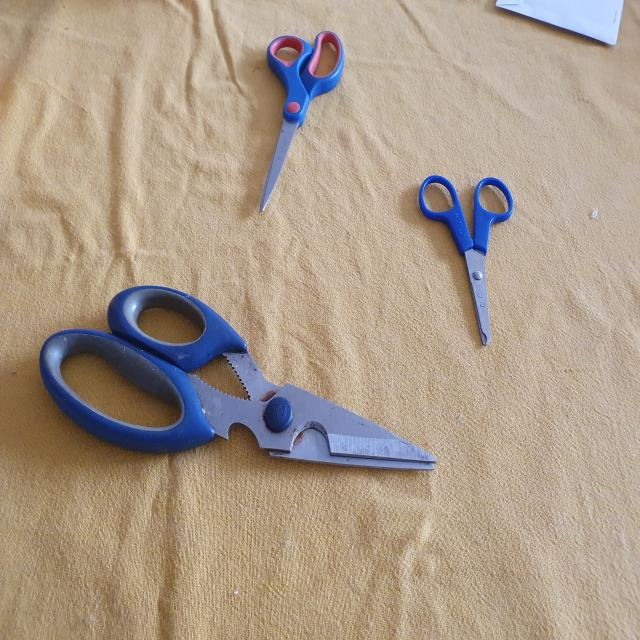scissors: (40, 280, 440, 472), (416, 174, 515, 352), (254, 26, 346, 210)
